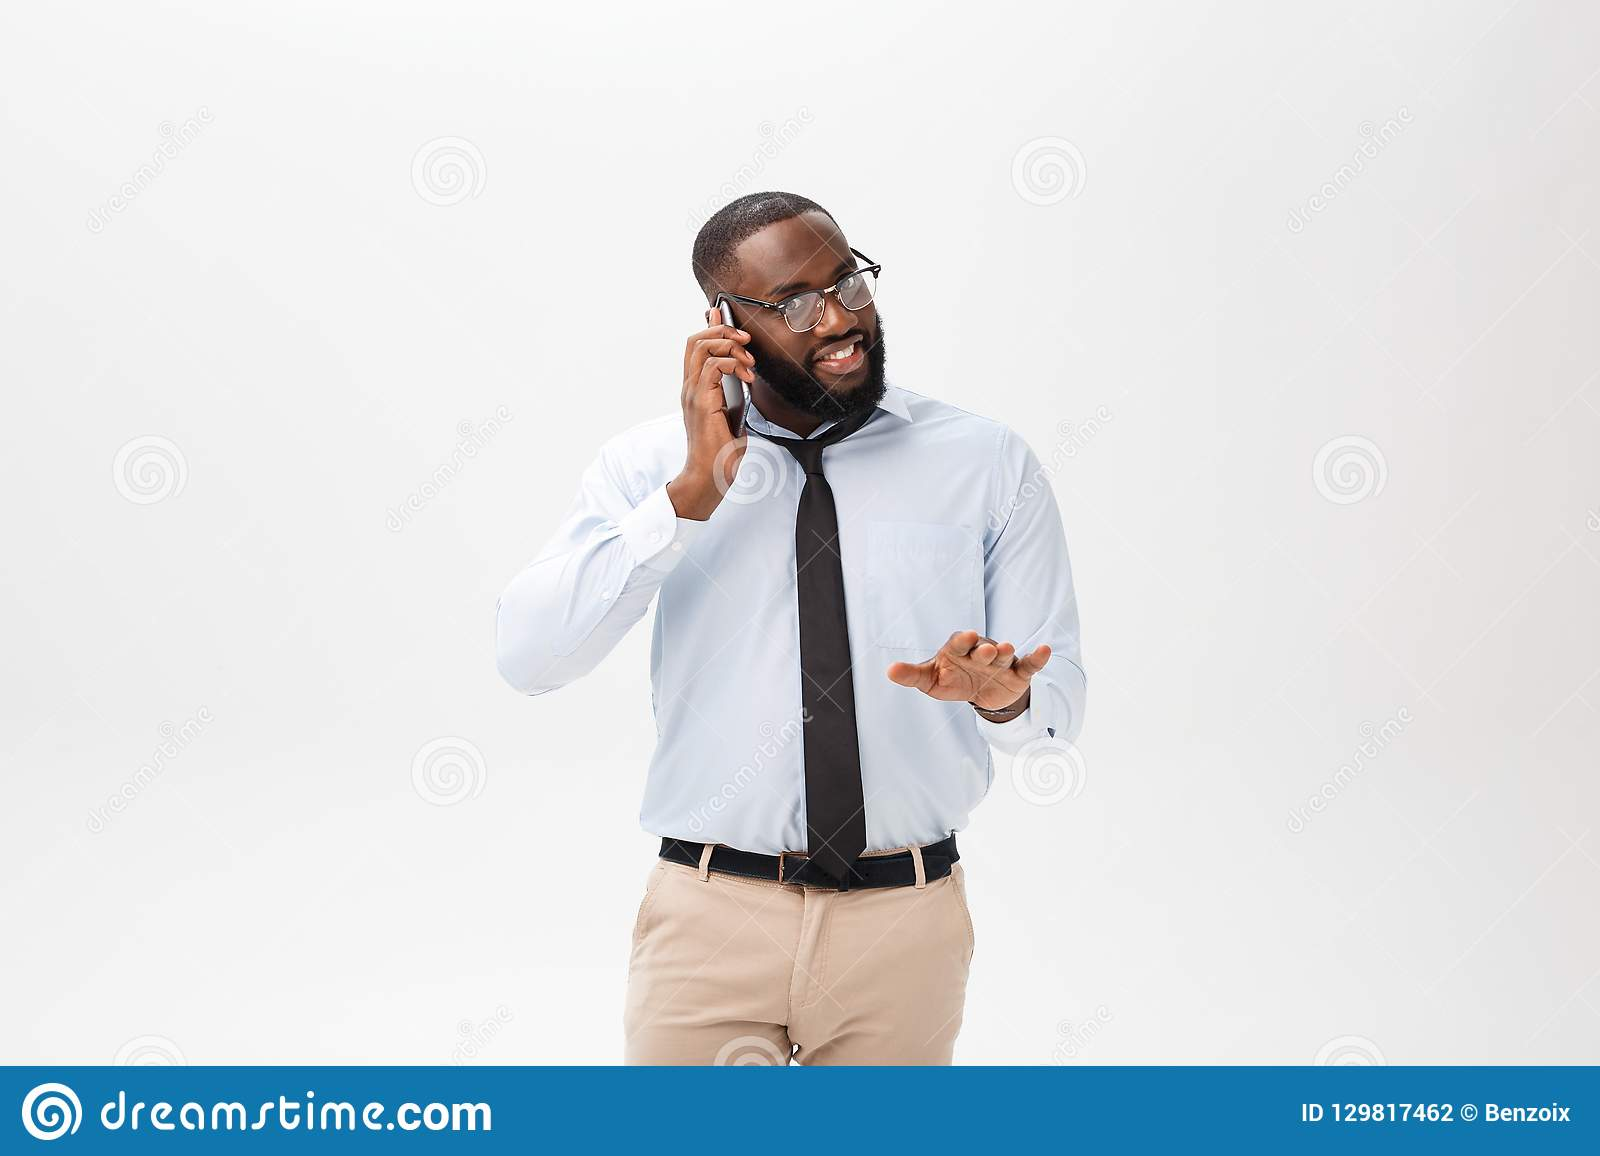phone: (708, 292, 757, 438)
talk: (680, 248, 886, 494)
